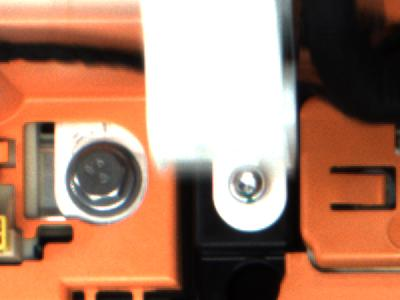nut_b: (56, 142, 146, 220)
